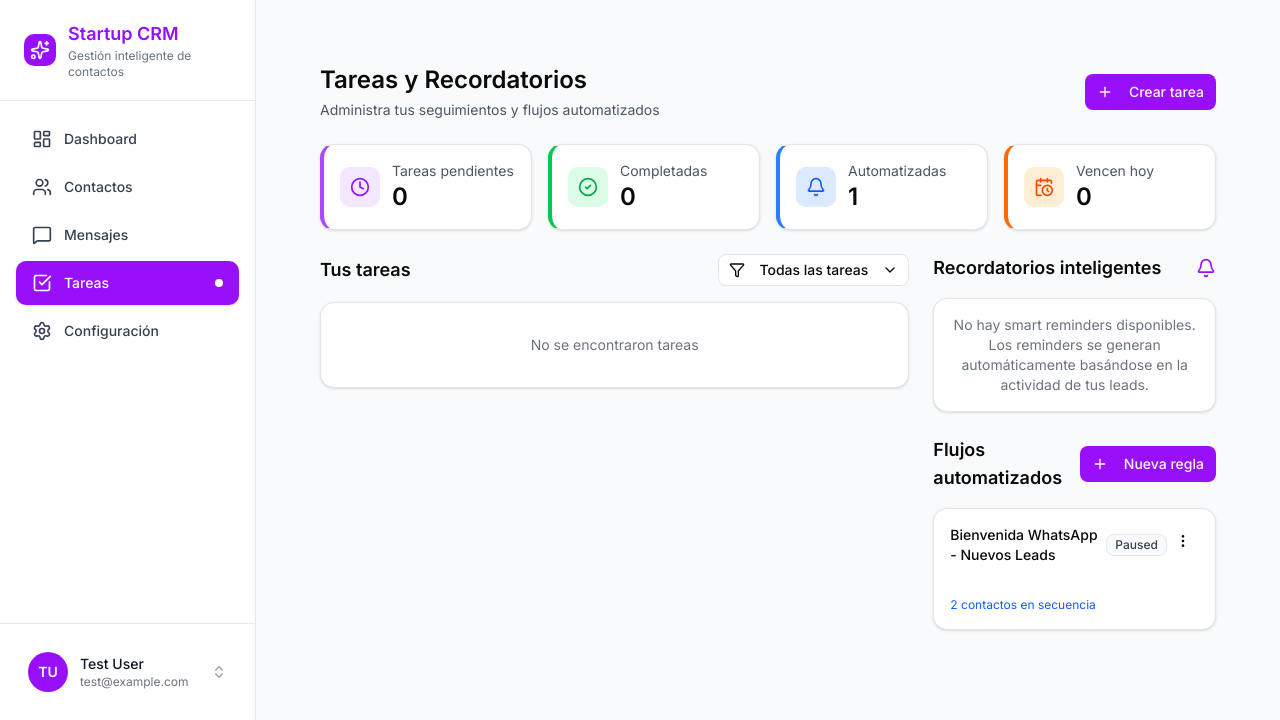
Test: Flujo de Bienvenida WhatsApp › Gestión del flujo de bienvenida › debe permitir activar el flujo pausado
The image size is (1280, 720).
Expected: the text with test id "workflow-card-1" reads "Paused", [1115,537,1158,552]
Click the button with test id "workflow-menu-1": click(1183, 541) [1167,525,1199,557]
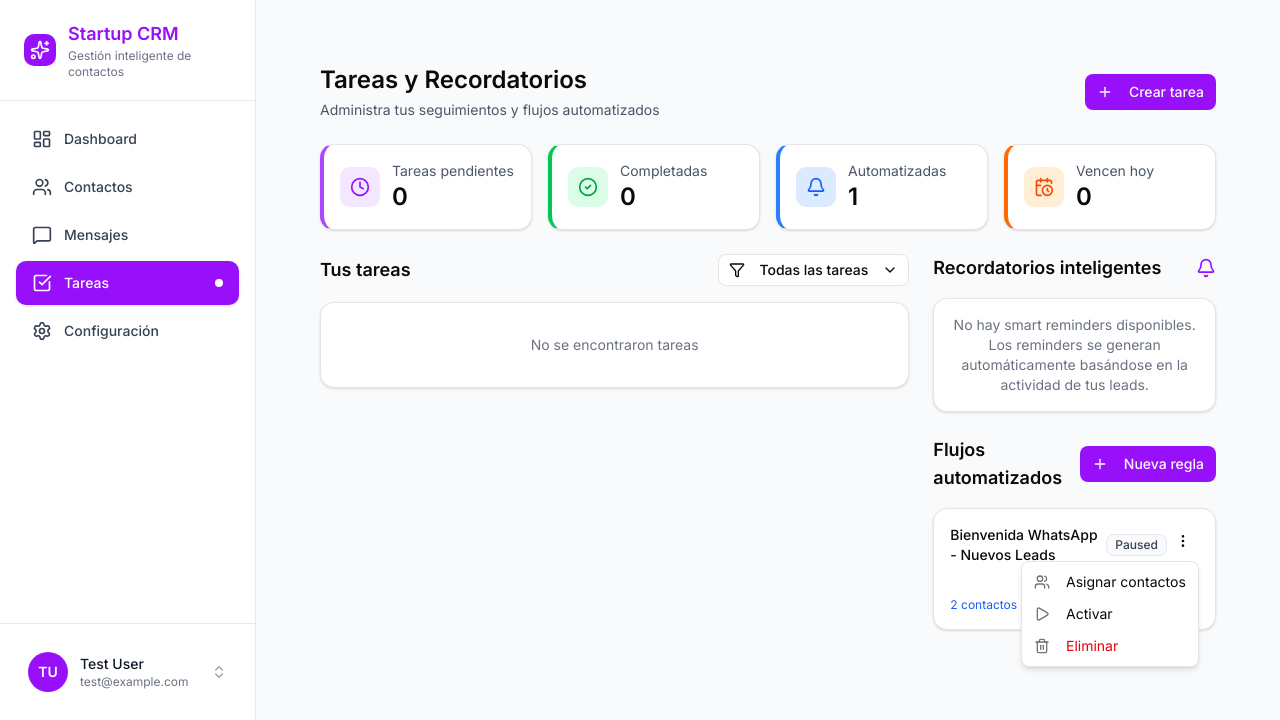
Click the menu item with test id "workflow-toggle-1": click(1074, 614) [1034,605,1113,622]
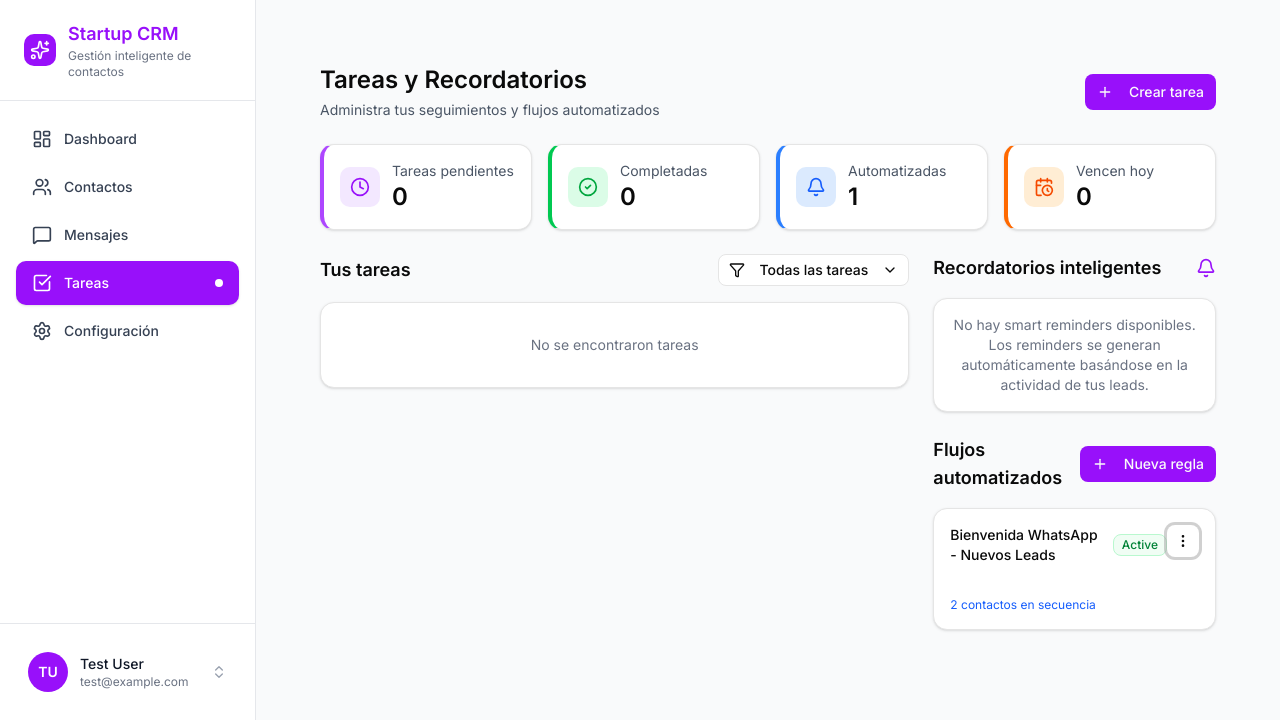
Expected: the text with test id "workflow-card-1" reads "Active", [1122,537,1158,552]
